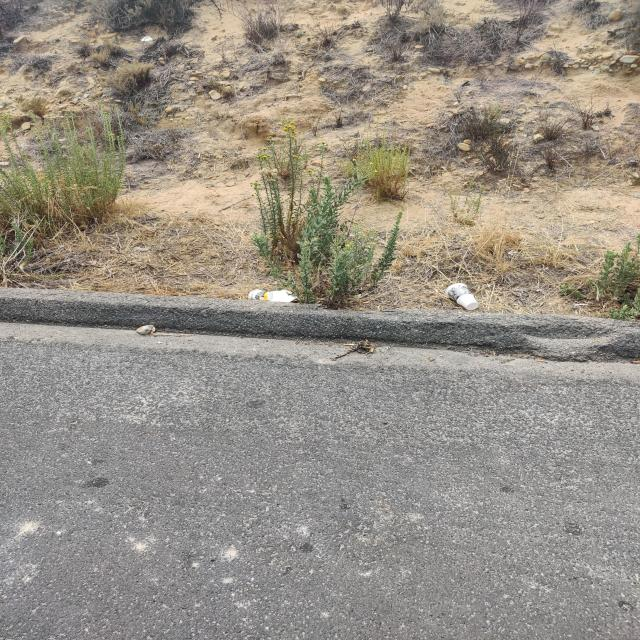litter: (445, 283, 479, 311), (270, 290, 297, 302), (247, 289, 273, 301), (140, 36, 153, 42), (343, 343, 356, 346), (537, 359, 544, 361), (633, 361, 639, 363)
